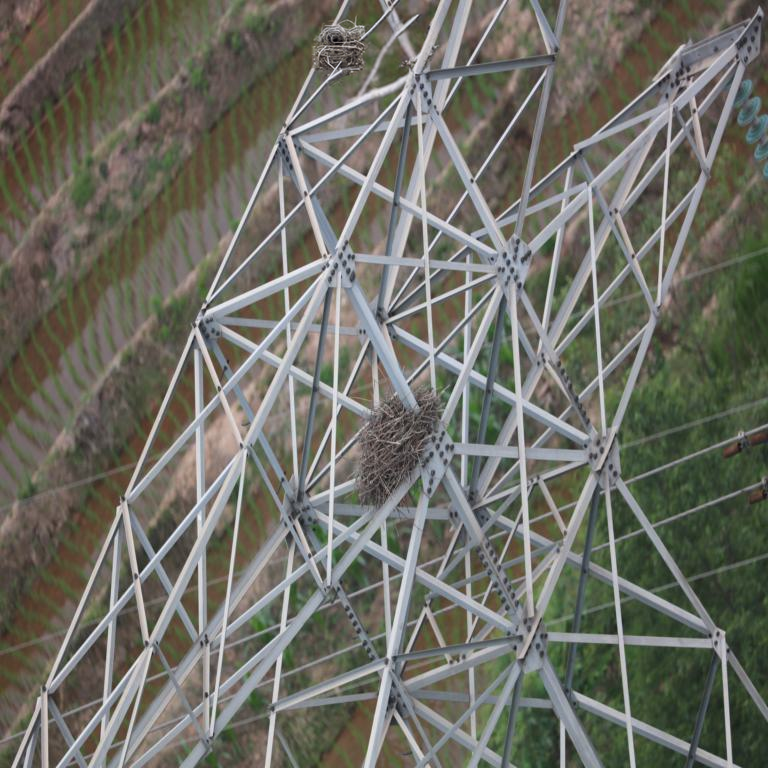nest: (359, 391, 434, 501), (310, 23, 368, 72)
